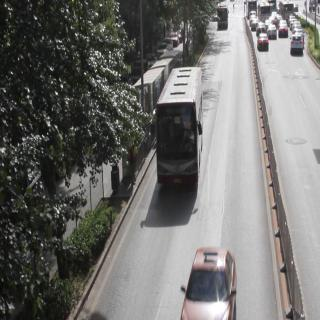BigCar: (156, 64, 203, 190), (216, 1, 230, 29)
Car: (180, 244, 236, 320), (288, 34, 304, 55), (256, 34, 268, 50), (278, 20, 288, 37), (268, 24, 276, 38)
